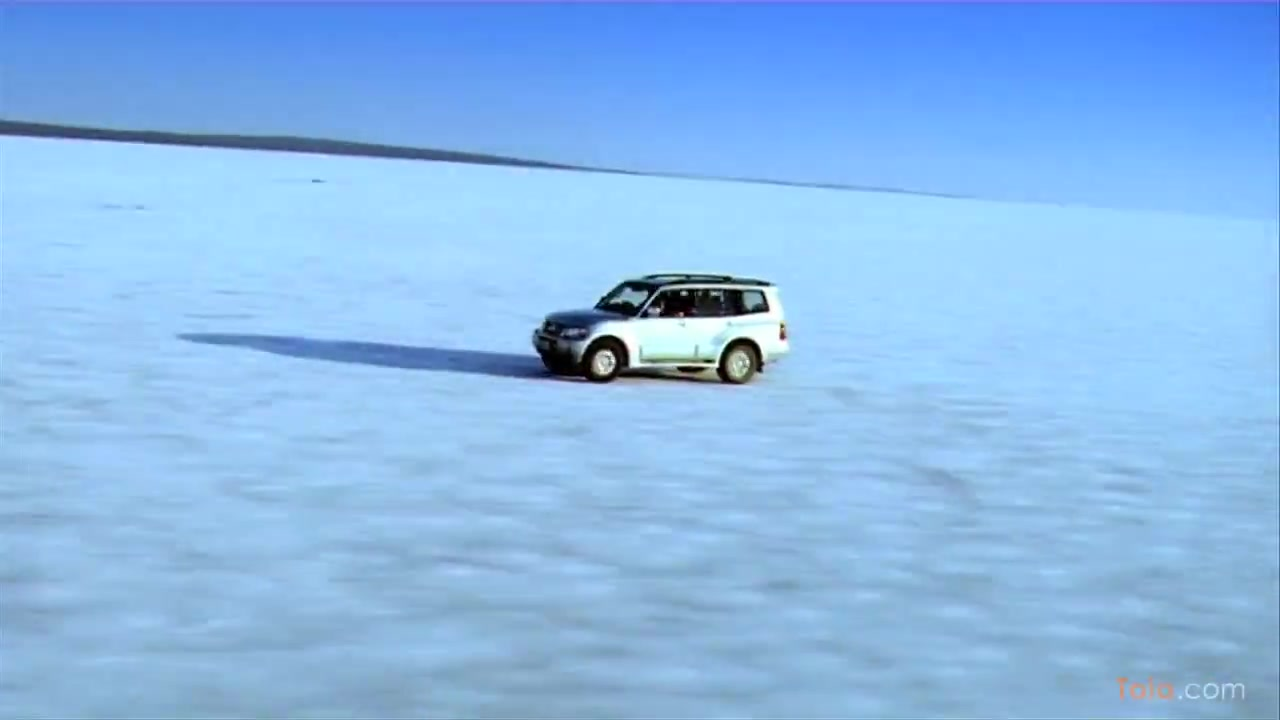car: (533, 274, 790, 390)
